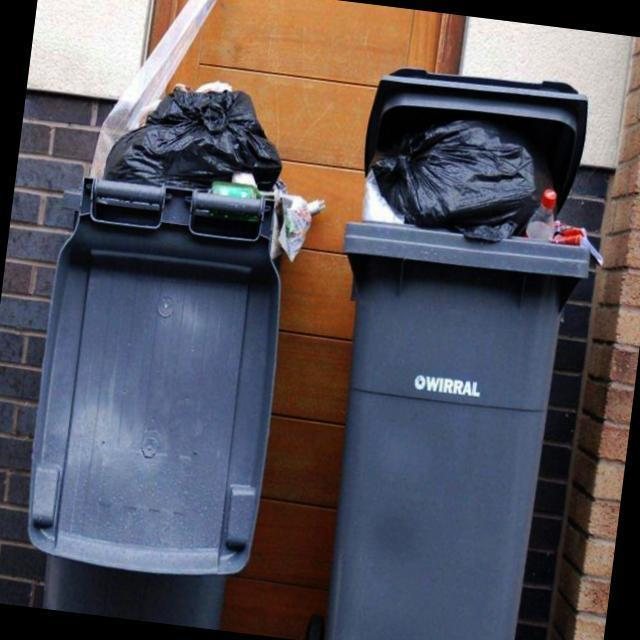garbage: (87, 62, 340, 268), (344, 98, 618, 262)
